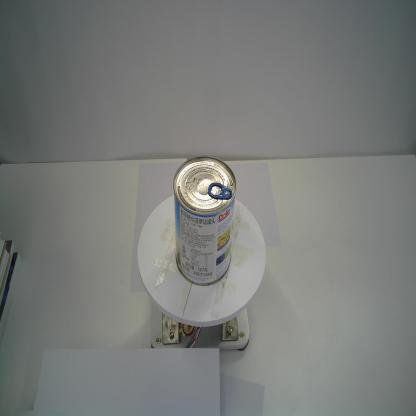Canned Food: (173, 155, 237, 287)
